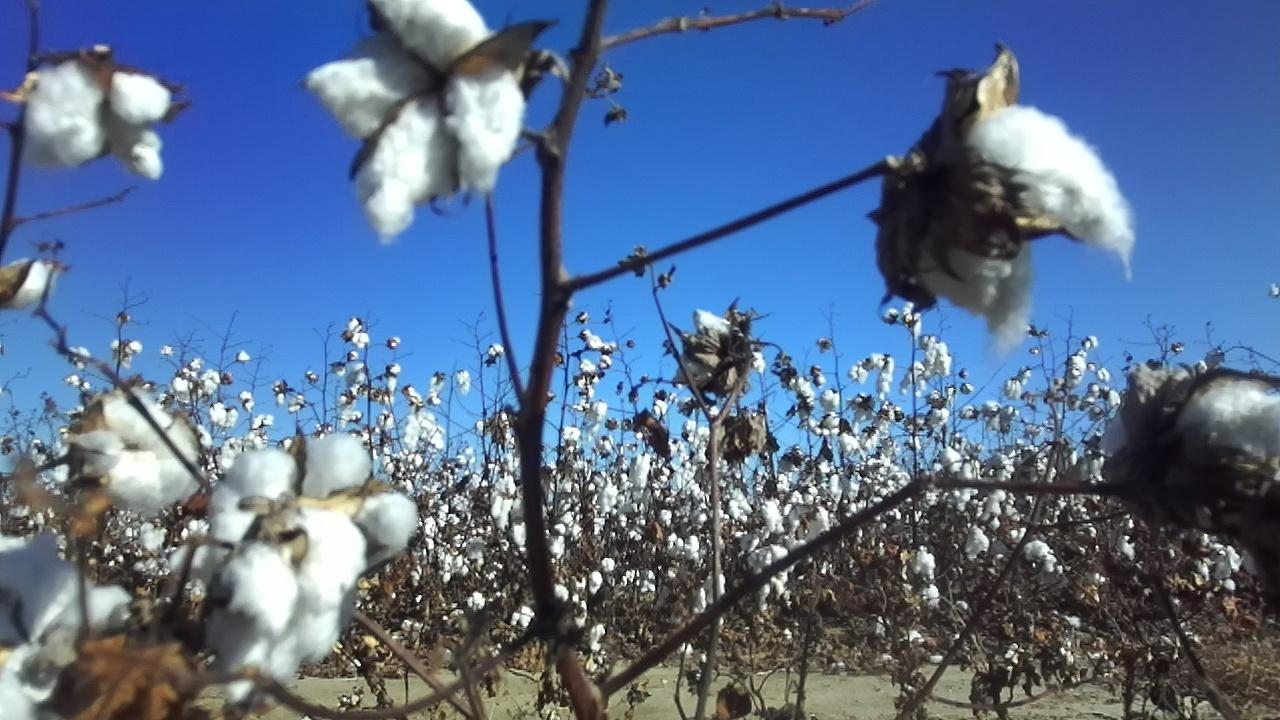cotton_ready: (308, 0, 522, 249), (934, 106, 1139, 350), (0, 532, 137, 720), (207, 450, 365, 594), (1102, 375, 1280, 484), (220, 544, 339, 702), (25, 54, 169, 177), (72, 393, 205, 510), (301, 438, 415, 570), (673, 309, 744, 387), (0, 259, 57, 305)
